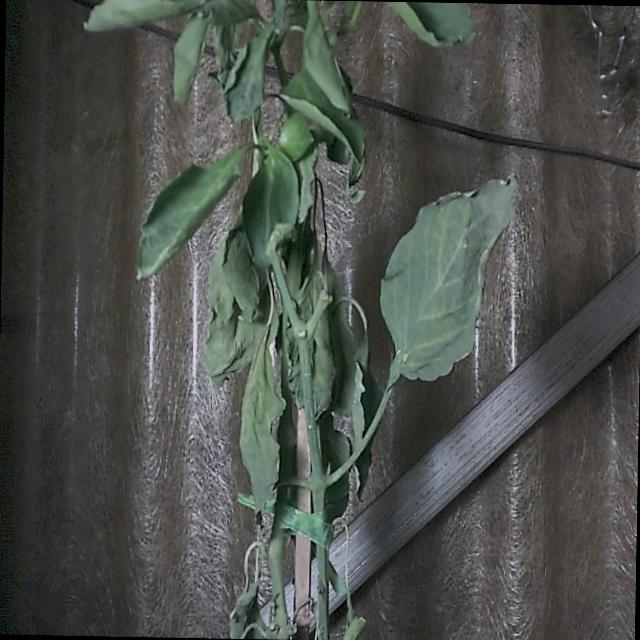Leaf: (377, 172, 517, 384), (132, 141, 240, 278), (240, 339, 284, 518), (236, 143, 298, 270)
